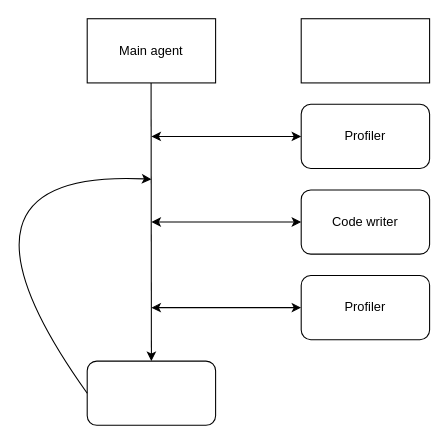
This 448x444 diagram has some shape labels left out. The centre of each missing label's shape, as x and y in pixels:
"Choix de la pertinence" belongs at (151,392).
"Sub-agents" belongs at (365,50).
